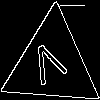V: (27, 39, 72, 95)
